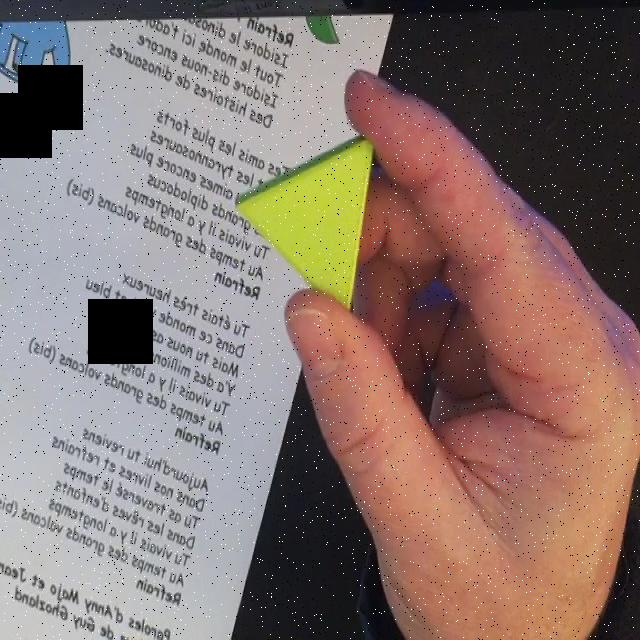triangle: (235, 132, 378, 320)
